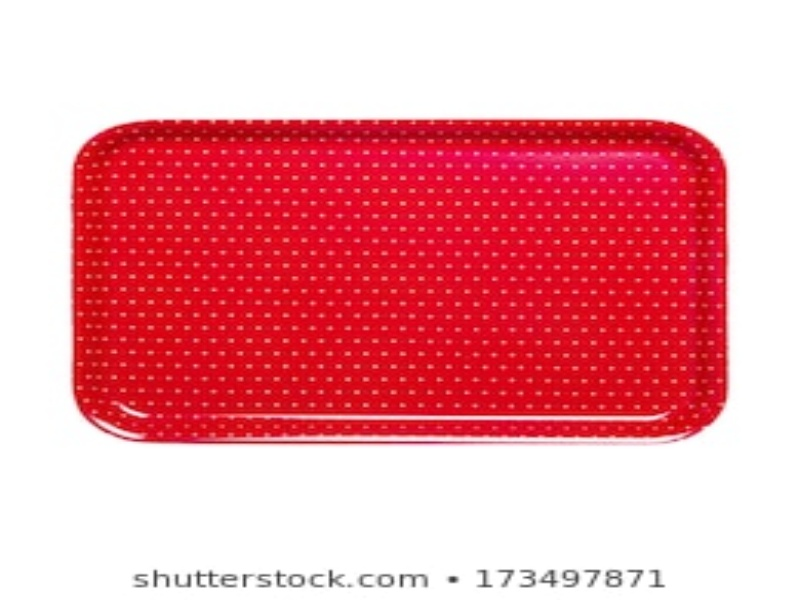plastic-tray: (57, 113, 735, 451)
